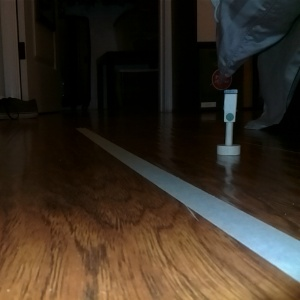traffic light green: (215, 87, 242, 157)
